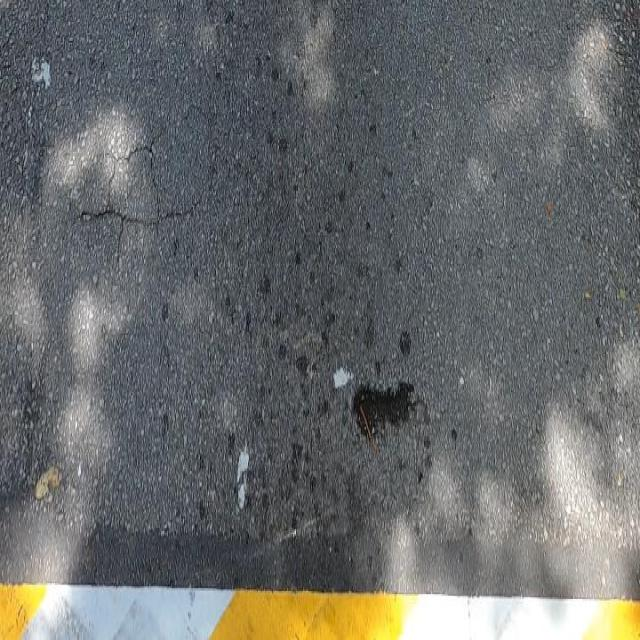cracks: (71, 114, 243, 270)
